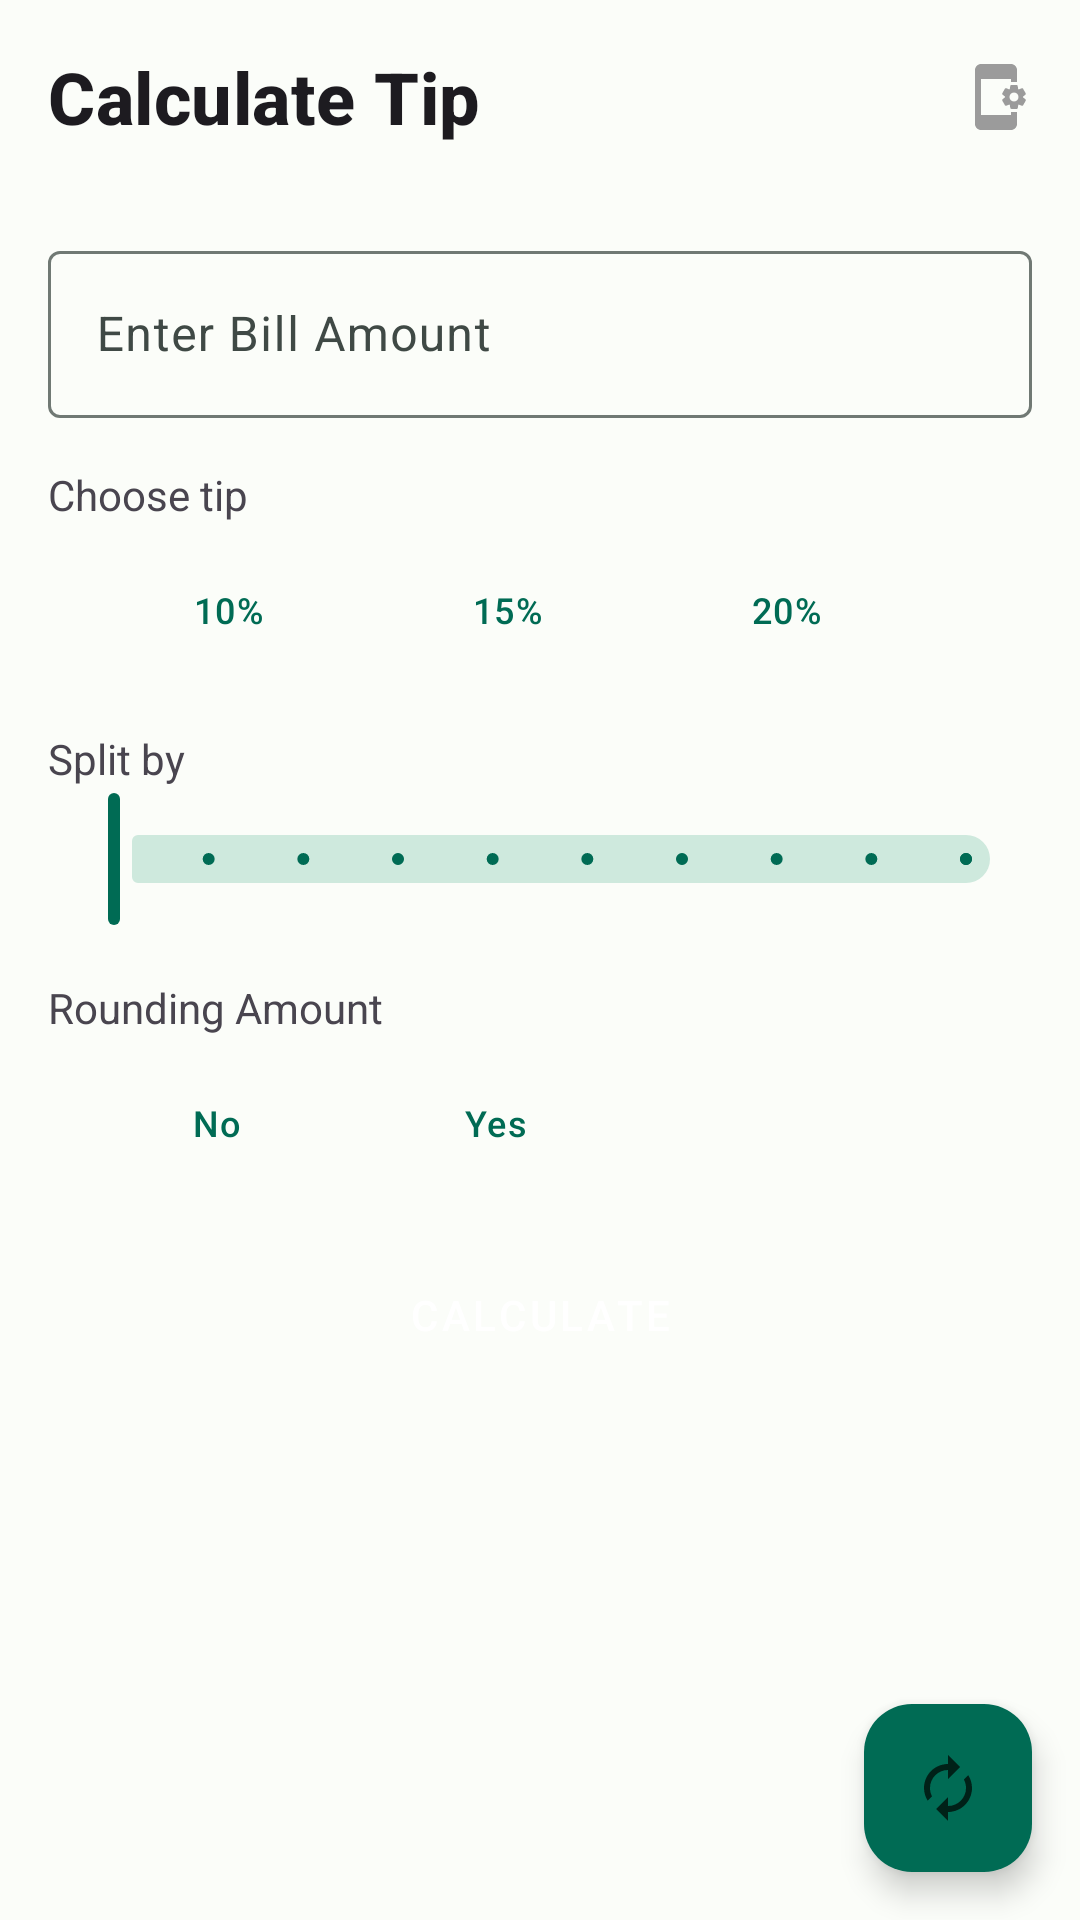

Named icons in this screenshot (1080px x 1920px) and their bounding boxes, (x1, y1, x2, y2):
Reset Data: (864, 1704, 1032, 1872)
